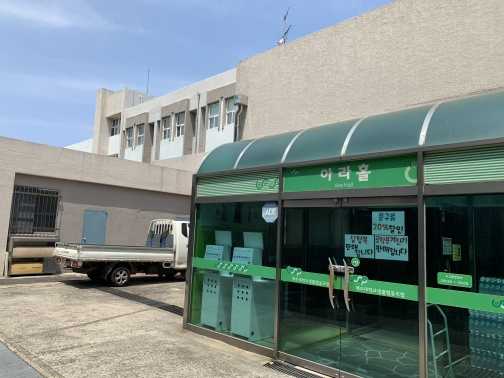Ara Hall: (190, 108, 503, 375), (279, 150, 434, 352)
